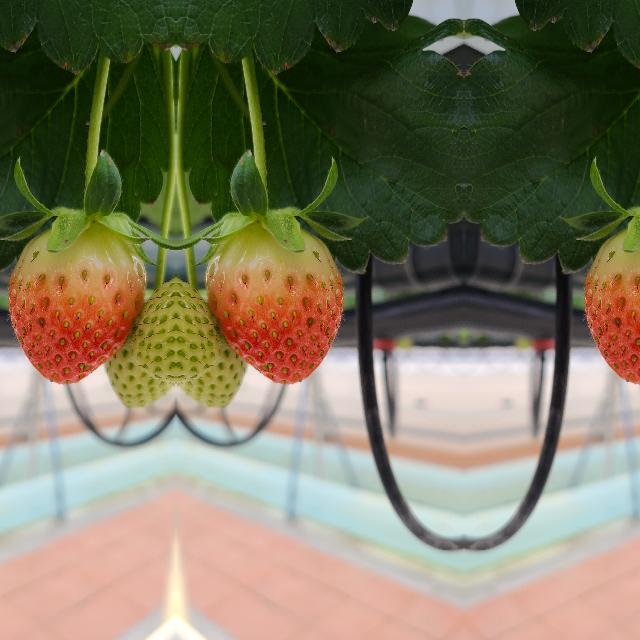Health_25: (174, 280, 226, 386), (124, 280, 176, 386)
Health_75: (205, 222, 342, 384), (8, 222, 144, 384), (583, 222, 640, 383)
